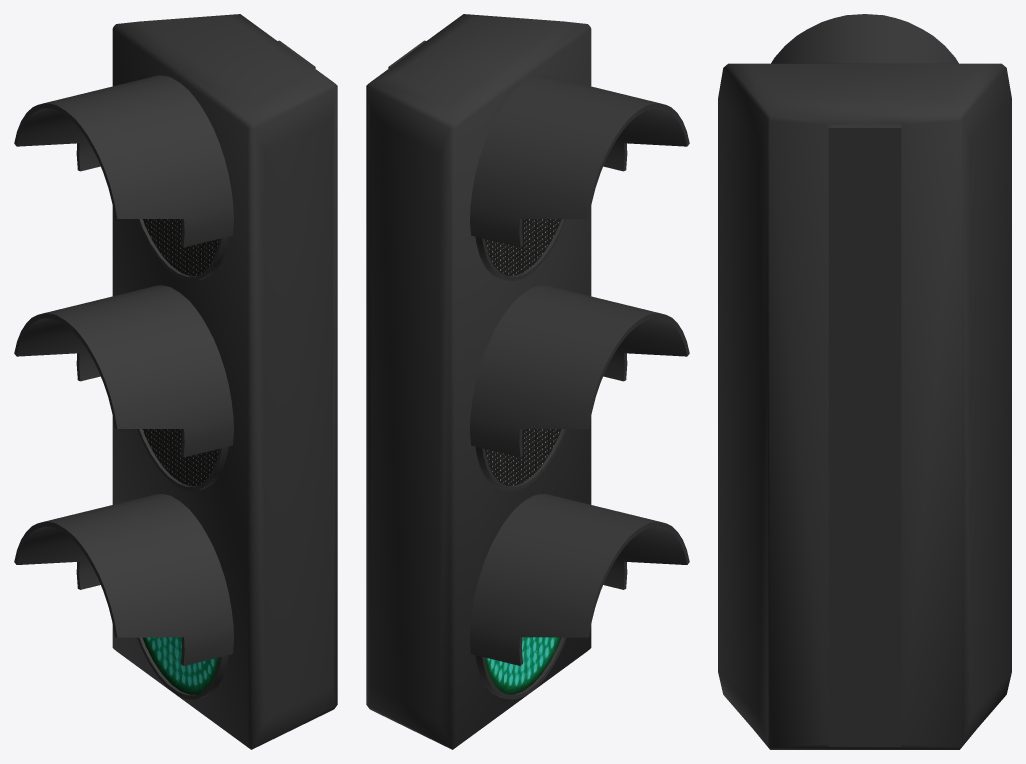
File: 竖排全方位灯_GreenLight.fbx
3 renders of one model, left to right at view 1: azimuth 30°, elevation 25°; view 2: azimuth 150°, elevation 25°; view 3: azimuth 270°, elevation 25°, orthographic.
Visible parts, largest first — view 1: 竖排全方位灯_GreenLight; view 2: 竖排全方位灯_GreenLight; view 3: 竖排全方位灯_GreenLight.
Part boxes in pixels (bbox=[...]): 竖排全方位灯_GreenLight: bbox=[14, 14, 337, 749]; 竖排全方位灯_GreenLight: bbox=[366, 14, 689, 749]; 竖排全方位灯_GreenLight: bbox=[718, 14, 1011, 749].
Size of the model in its own units: 0.6 by 1.58 by 0.65.
3 materials, 2 textured.
